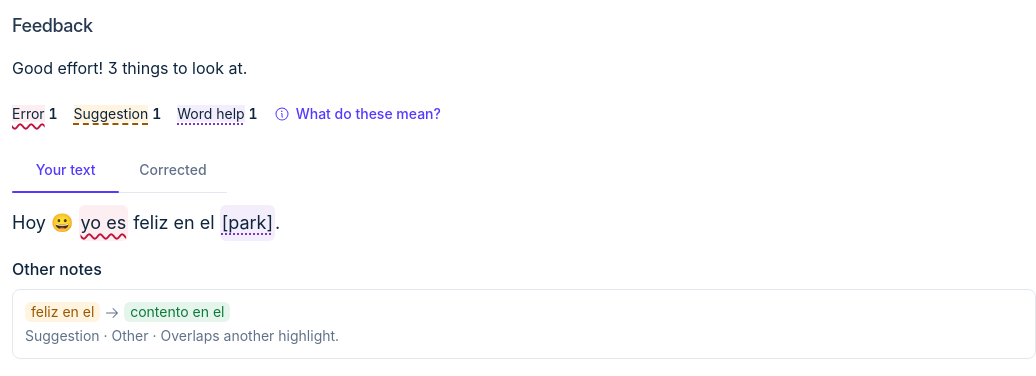
FeedbackView › switches to the corrected version in a tab and hides the highlights meanwhile
Click the tab "Corrected".
click(173, 170)  # box [119,148,227,192]
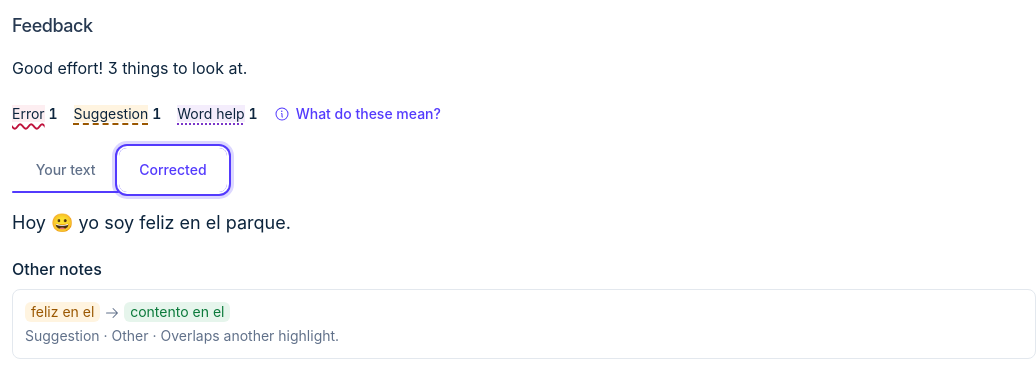
expect the panel named "Corrected" reads "Hoy 😀 yo soy feliz en el parque.": met, box [12,212,291,233]
expect the button "yo es" is gone: met
